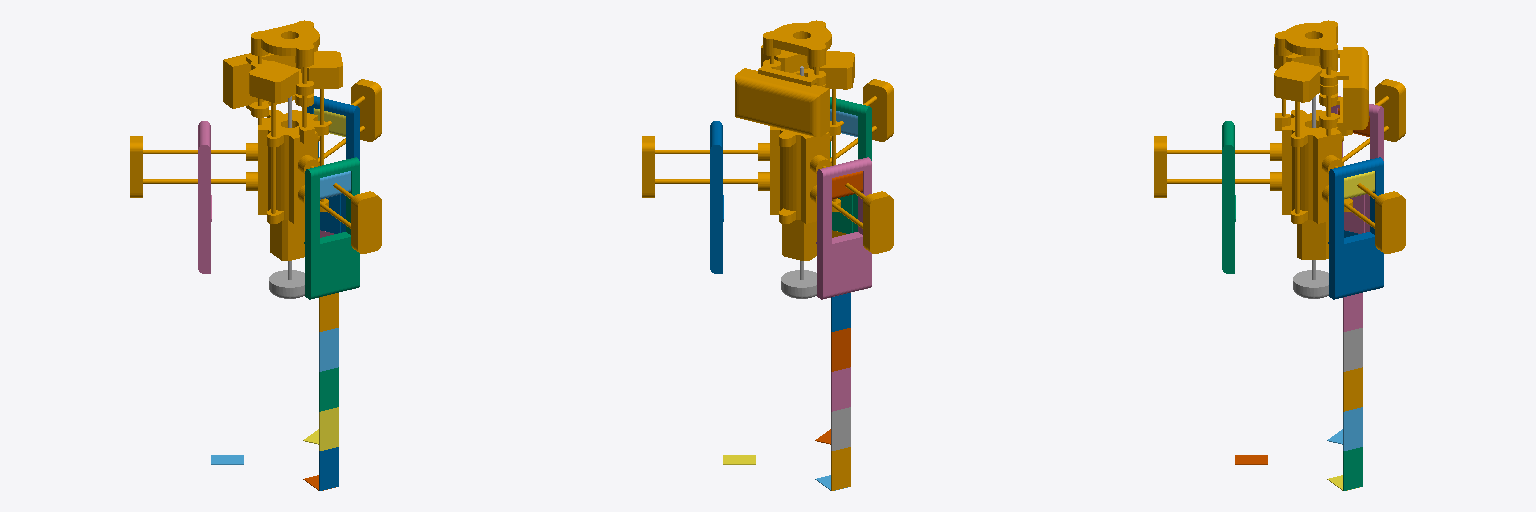
--- What the picture shows (computed from the rendered views, not written in the file) ---
Views: 3 orthographic renders of the robot side by side, from view 1: azimuth 30°, elevation 25°; view 2: azimuth 150°, elevation 25°; view 3: azimuth 270°, elevation 25°.
Model gripper with 27 links and 26 joints (18 revolute, 4 prismatic, 4 fixed), rooted at world, posed all joints at 0 but 3 set to mid-range because 0 is outside their limits (finger_1_prismatic_joint = 0.0915, finger_2_prismatic_joint = 0.0915, finger_3_prismatic_joint = 0.0915).
Links seen in each view (by area): view 1: gripper_base_link, finger_1, finger_3, finger_2, palm, finger_1_segment_link_5, finger_1_segment_link_2, finger_1_segment_link_3, finger_1_segment_link_4, finger_1_segment_link_1, finger_1_intermediate; view 2: gripper_base_link, finger_3, finger_2, finger_1, palm, finger_3_segment_link_5, finger_3_segment_link_2, finger_3_segment_link_3, finger_3_segment_link_4, finger_3_segment_link_1, finger_3_intermediate; view 3: gripper_base_link, finger_2, finger_1, finger_3, palm, finger_2_segment_link_5, finger_2_segment_link_2, finger_2_segment_link_3, finger_2_segment_link_4, finger_2_segment_link_1, finger_2_intermediate.
Link boxes in pixels (x1,y1,x2,y2): gripper_base_link: (130,20,381,260); finger_1: (304,157,359,299); finger_3: (198,121,211,273); finger_2: (307,96,359,233); palm: (269,96,304,298); finger_1_segment_link_5: (319,447,338,490); finger_1_segment_link_2: (319,328,338,371); finger_1_segment_link_3: (319,367,338,411); finger_1_segment_link_4: (319,407,338,450); finger_1_segment_link_1: (319,293,338,331); finger_1_intermediate: (320,171,350,199); gripper_base_link: (642,20,893,260); finger_3: (816,157,871,299); finger_2: (710,121,723,273); finger_1: (830,97,871,233); palm: (781,66,816,298); finger_3_segment_link_5: (831,447,850,490); finger_3_segment_link_2: (831,328,850,371); finger_3_segment_link_3: (831,367,850,411); finger_3_segment_link_4: (831,407,850,450); finger_3_segment_link_1: (831,293,850,331); finger_3_intermediate: (832,171,862,199); gripper_base_link: (1154,20,1405,259); finger_2: (1328,157,1383,299); finger_1: (1222,121,1235,273); finger_3: (1331,96,1383,233); palm: (1293,96,1328,298); finger_2_segment_link_5: (1343,447,1362,490); finger_2_segment_link_2: (1343,328,1362,371); finger_2_segment_link_3: (1343,367,1362,411); finger_2_segment_link_4: (1343,407,1362,450); finger_2_segment_link_1: (1343,293,1362,331); finger_2_intermediate: (1344,171,1374,199).
Size in the robot's own frame: 0.3116 by 0.2699 by 0.5023 metres.
Meshes: 4 distinct files referenced, 8 mesh visuals loaded (4 binary STL).

URDF robot description (gripper):
<?xml version="1.0" ?>
<!-- =================================================================================== -->
<!-- |    This document was autogenerated by xacro from gripper.urdf.xacro             | -->
<!-- |    EDITING THIS FILE BY HAND IS NOT RECOMMENDED                                 | -->
<!-- =================================================================================== -->
<robot name="gripper">
  <!-- PARAMETERS TO BE SET BY HAND -->
  <!-- END OF PARAMETERS TO BE SET BY HAND -->
  <!-- PARAMETERS TO BE SET BY HAND -->
  <!-- END OF PARAMETER TO BE SET BY HAND -->
  <!-- BASE LINK -->
  <link name="gripper_base_link">
    <inertial>
      <mass value="1.5"/>
      <origin rpy="3.141592653589793 0 0" xyz="0 0 0.025"/>
      <inertia ixx="9.95e-3" ixy="2.73e-6" ixz="-14.32e-6" iyy="10.08e-3" iyz="121.38e-6" izz="5.13e-3"/>
    </inertial>
    <visual>
      <geometry>
        <mesh filename="package://gripper_description/meshes/main body visual.STL"/>
      </geometry>
    </visual>
    <collision>
      <geometry>
        <!--          <mesh filename="package://gripper_description/meshes/main body collision.STL"/>-->
        <cylinder length="0.1" radius="0.03"/>
      </geometry>
    </collision>
  </link>
  <!-- Intermediate link for prismatic joint -->
  <link name="finger_1_intermediate">
    <inertial>
      <mass value="0.1"/>
      <origin rpy="0 0 0" xyz="0 0 0"/>
      <inertia ixx="55.59e-6" ixy="-47.23e-6" ixz="1.16e-6" iyy="146.36e-6" iyz="1.00e-6" izz="154.18e-6"/>
    </inertial>
    <visual>
      <geometry>
        <mesh filename="package://gripper_description/meshes/nut visual.STL"/>
      </geometry>
    </visual>
    <collision>
      <geometry>
        <mesh filename="package://gripper_description/meshes/nut collision.STL"/>
      </geometry>
    </collision>
  </link>
  <!-- Main finger link -->
  <link name="finger_1">
    <inertial>
      <mass value="0.1"/>
      <origin rpy="0 0 0" xyz="0 0 0"/>
      <inertia ixx="55.59e-6" ixy="-47.23e-6" ixz="1.16e-6" iyy="146.36e-6" iyz="1.00e-6" izz="154.18e-6"/>
    </inertial>
    <visual>
      <geometry>
        <mesh filename="package://gripper_description/meshes/platform only visual.STL"/>
      </geometry>
    </visual>
    <collision>
      <geometry>
        <mesh filename="package://gripper_description/meshes/platform only collision.STL"/>
      </geometry>
    </collision>
  </link>
  <joint name="finger_1_prismatic_joint" type="prismatic">
    <axis rpy="0 0 0" xyz="0 1 0"/>
    <parent link="gripper_base_link"/>
    <child link="finger_1_intermediate"/>
    <origin rpy="4.71238898038469                    4.71238898038469                    1.5707963267948966" xyz="0.0                    0.0                    0"/>
    <limit effort="40.0" lower="0.049" upper="0.134" velocity="0.015"/>
    <dynamics damping="1.0"/>
  </joint>
  <joint name="finger_1_revolute_joint" type="revolute">
    <axis rpy="0 0 0" xyz="0 0 1"/>
    <parent link="finger_1_intermediate"/>
    <child link="finger_1"/>
    <origin rpy="0 0 0.0" xyz="0 0 0"/>
    <limit effort="40.0" lower="-0.7" upper="0.7" velocity="0.1"/>
    <dynamics damping="1.0"/>
  </joint>
  <!-- Intermediate link for prismatic joint -->
  <link name="finger_2_intermediate">
    <inertial>
      <mass value="0.1"/>
      <origin rpy="0 0 0" xyz="0 0 0"/>
      <inertia ixx="55.59e-6" ixy="-47.23e-6" ixz="1.16e-6" iyy="146.36e-6" iyz="1.00e-6" izz="154.18e-6"/>
    </inertial>
    <visual>
      <geometry>
        <mesh filename="package://gripper_description/meshes/nut visual.STL"/>
      </geometry>
    </visual>
    <collision>
      <geometry>
        <mesh filename="package://gripper_description/meshes/nut collision.STL"/>
      </geometry>
    </collision>
  </link>
  <!-- Main finger link -->
  <link name="finger_2">
    <inertial>
      <mass value="0.1"/>
      <origin rpy="0 0 0" xyz="0 0 0"/>
      <inertia ixx="55.59e-6" ixy="-47.23e-6" ixz="1.16e-6" iyy="146.36e-6" iyz="1.00e-6" izz="154.18e-6"/>
    </inertial>
    <visual>
      <geometry>
        <mesh filename="package://gripper_description/meshes/platform only visual.STL"/>
      </geometry>
    </visual>
    <collision>
      <geometry>
        <mesh filename="package://gripper_description/meshes/platform only collision.STL"/>
      </geometry>
    </collision>
  </link>
  <joint name="finger_2_prismatic_joint" type="prismatic">
    <axis rpy="0 0 0" xyz="0 1 0"/>
    <parent link="gripper_base_link"/>
    <child link="finger_2_intermediate"/>
    <origin rpy="4.71238898038469                    4.71238898038469                    -0.5235987755982987" xyz="0.0                    -0.0                    0"/>
    <limit effort="40.0" lower="0.049" upper="0.134" velocity="0.015"/>
    <dynamics damping="1.0"/>
  </joint>
  <joint name="finger_2_revolute_joint" type="revolute">
    <axis rpy="0 0 0" xyz="0 0 1"/>
    <parent link="finger_2_intermediate"/>
    <child link="finger_2"/>
    <origin rpy="0 0 0.0" xyz="0 0 0"/>
    <limit effort="40.0" lower="-0.7" upper="0.7" velocity="0.1"/>
    <dynamics damping="1.0"/>
  </joint>
  <!-- Intermediate link for prismatic joint -->
  <link name="finger_3_intermediate">
    <inertial>
      <mass value="0.1"/>
      <origin rpy="0 0 0" xyz="0 0 0"/>
      <inertia ixx="55.59e-6" ixy="-47.23e-6" ixz="1.16e-6" iyy="146.36e-6" iyz="1.00e-6" izz="154.18e-6"/>
    </inertial>
    <visual>
      <geometry>
        <mesh filename="package://gripper_description/meshes/nut visual.STL"/>
      </geometry>
    </visual>
    <collision>
      <geometry>
        <mesh filename="package://gripper_description/meshes/nut collision.STL"/>
      </geometry>
    </collision>
  </link>
  <!-- Main finger link -->
  <link name="finger_3">
    <inertial>
      <mass value="0.1"/>
      <origin rpy="0 0 0" xyz="0 0 0"/>
      <inertia ixx="55.59e-6" ixy="-47.23e-6" ixz="1.16e-6" iyy="146.36e-6" iyz="1.00e-6" izz="154.18e-6"/>
    </inertial>
    <visual>
      <geometry>
        <mesh filename="package://gripper_description/meshes/platform only visual.STL"/>
      </geometry>
    </visual>
    <collision>
      <geometry>
        <mesh filename="package://gripper_description/meshes/platform only collision.STL"/>
      </geometry>
    </collision>
  </link>
  <joint name="finger_3_prismatic_joint" type="prismatic">
    <axis rpy="0 0 0" xyz="0 1 0"/>
    <parent link="gripper_base_link"/>
    <child link="finger_3_intermediate"/>
    <origin rpy="4.71238898038469                    4.71238898038469                    -2.617993877991494" xyz="-0.0                    -0.0                    0"/>
    <limit effort="40.0" lower="0.049" upper="0.134" velocity="0.015"/>
    <dynamics damping="1.0"/>
  </joint>
  <joint name="finger_3_revolute_joint" type="revolute">
    <axis rpy="0 0 0" xyz="0 0 1"/>
    <parent link="finger_3_intermediate"/>
    <child link="finger_3"/>
    <origin rpy="0 0 0.0" xyz="0 0 0"/>
    <limit effort="40.0" lower="-0.7" upper="0.7" velocity="0.1"/>
    <dynamics damping="1.0"/>
  </joint>
  <!-- PALM -->
  <link name="palm">
    <inertial>
      <mass value="0.05"/>
      <origin rpy="0 0 0" xyz="0 0 0"/>
      <inertia ixx="10.0e-6" ixy="0.0" ixz="0.0" iyy="10.0e-6" iyz="0.0" izz="10.0e-6"/>
    </inertial>
    <visual>
      <origin rpy="0 0 0" xyz="0 0 0"/>
      <geometry>
        <mesh filename="package://gripper_description/meshes/palm visual.STL"/>
      </geometry>
    </visual>
    <collision>
      <geometry>
        <mesh filename="package://gripper_description/meshes/palm collision.STL"/>
      </geometry>
    </collision>
  </link>
  <joint name="palm_prismatic_joint" type="prismatic">
    <axis rpy="0 0 0" xyz="1 0 0"/>
    <parent link="gripper_base_link"/>
    <child link="palm"/>
    <origin rpy="0 -1.5707963267948966 0" xyz="0 0 0"/>
    <limit effort="40.0" lower="0.0" upper="0.165" velocity="0.036"/>
    <dynamics damping="1.0"/>
  </joint>
  <!-- PARAMETERS TO BE SET BY HAND -->
  <!-- END OF PARAMETERS TO BE SET BY HAND -->
  <joint name="finger_1_segment_joint_0" type="revolute">
    <origin rpy="1.5707963267948966 0 0" xyz="0.129 -0.007 0"/>
    <parent link="finger_1"/>
    <child link="finger_1_segment_link_1"/>
    <axis rpy="0 0 0" xyz="0 1 0"/>
    <limit effort="1000.0" lower="-1.0" upper="1.0" velocity="1.0"/>
    <dynamics damping="0.01" friction="0.0"/>
  </joint>
  <!-- END TESTING OF BASE JOINT (rather than fixed) -->
  <link name="finger_1_segment_link_1">
    <inertial>
      <mass value="0.013055555555555555"/>
      <inertia ixx="3.137739583333333e-05" ixy="0.00" ixz="0.00" iyy="0.00048070609953703705" iyz="0.00" izz="0.0005119953703703703"/>
    </inertial>
    <visual>
      <origin rpy="0 0 0" xyz="0.0235 0 0"/>
      <geometry>
        <box size="0.047 0.024 0.0009"/>
      </geometry>
    </visual>
    <collision>
      <origin rpy="0 0 0" xyz="0.0235 0 0"/>
      <geometry>
        <box size="0.047 0.024 0.0009"/>
      </geometry>
    </collision>
  </link>
  <gazebo reference="finger_1_segment_link_1">
    <material>Gazebo/Orange</material>
    <mu1>0.1</mu1>
    <mu2>0.1</mu2>
    <maxVel>0.0</maxVel>
    <minDepth>0.001</minDepth>
    <!-- <kp>100</kp>
        <kd>1</kd> -->
  </gazebo>
  <link name="finger_1_segment_link_2">
    <inertial>
      <mass value="0.013055555555555555"/>
      <inertia ixx="3.137739583333333e-05" ixy="0.00" ixz="0.00" iyy="0.00048070609953703705" iyz="0.00" izz="0.0005119953703703703"/>
    </inertial>
    <visual>
      <origin rpy="0 0 0" xyz="0.0235 0 0"/>
      <geometry>
        <box size="0.047 0.024 0.0009"/>
      </geometry>
    </visual>
    <collision>
      <origin rpy="0 0 0" xyz="0.0235 0 0"/>
      <geometry>
        <box size="0.047 0.024 0.0009"/>
      </geometry>
    </collision>
  </link>
  <gazebo reference="finger_1_segment_link_2">
    <material>Gazebo/Orange</material>
    <mu1>0.1</mu1>
    <mu2>0.1</mu2>
    <maxVel>0.0</maxVel>
    <minDepth>0.001</minDepth>
    <!-- <kp>100</kp>
        <kd>1</kd> -->
  </gazebo>
  <!-- bending joint -->
  <joint name="finger_1_segment_joint_1" type="revolute">
    <axis rpy="0 0 0" xyz="0 1 0"/>
    <parent link="finger_1_segment_link_1"/>
    <child link="finger_1_segment_link_2"/>
    <origin rpy="0 0 0" xyz="0.047 0 0"/>
    <limit effort="1000.0" lower="-1.0" upper="1.0" velocity="1.0"/>
    <dynamics damping="0.01" friction="0.0"/>
  </joint>
  <gazebo reference="finger_1_segment_joint_1">
    <provideFeedback>1</provideFeedback>
    <springReference>0.0</springReference>
    <implicitSpringDamper>1</implicitSpringDamper>
    <springStiffness>3.0</springStiffness>
  </gazebo>
  <!-- set transmission for gazebo ROS controllers-->
  <transmission name="finger_1_segment_tran_1">
    <type>transmission_interface/SimpleTransmission</type>
    <joint name="finger_1_segment_joint_1">
      <hardwareInterface>hardware_interface/EffortJointInterface</hardwareInterface>
    </joint>
    <actuator name="finger_1_segment_motor_1">
      <hardwareInterface>hardware_interface/EffortJointInterface</hardwareInterface>
      <mechanicalReduction>1</mechanicalReduction>
    </actuator>
  </transmission>
  <link name="finger_1_segment_link_3">
    <inertial>
      <mass value="0.013055555555555555"/>
      <inertia ixx="3.137739583333333e-05" ixy="0.00" ixz="0.00" iyy="0.00048070609953703705" iyz="0.00" izz="0.0005119953703703703"/>
    </inertial>
    <visual>
      <origin rpy="0 0 0" xyz="0.0235 0 0"/>
      <geometry>
        <box size="0.047 0.024 0.0009"/>
      </geometry>
    </visual>
    <collision>
      <origin rpy="0 0 0" xyz="0.0235 0 0"/>
      <geometry>
        <box size="0.047 0.024 0.0009"/>
      </geometry>
    </collision>
  </link>
  <gazebo reference="finger_1_segment_link_3">
    <material>Gazebo/Orange</material>
    <mu1>0.1</mu1>
    <mu2>0.1</mu2>
    <maxVel>0.0</maxVel>
    <minDepth>0.001</minDepth>
    <!-- <kp>100</kp>
        <kd>1</kd> -->
  </gazebo>
  <!-- bending joint -->
  <joint name="finger_1_segment_joint_2" type="revolute">
    <axis rpy="0 0 0" xyz="0 1 0"/>
    <parent link="finger_1_segment_link_2"/>
    <child link="finger_1_segment_link_3"/>
    <origin rpy="0 0 0" xyz="0.047 0 0"/>
    <limit effort="1000.0" lower="-1.0" upper="1.0" velocity="1.0"/>
    <dynamics damping="0.01" friction="0.0"/>
  </joint>
  <gazebo reference="finger_1_segment_joint_2">
    <provideFeedback>1</provideFeedback>
    <springReference>0.0</springReference>
    <implicitSpringDamper>1</implicitSpringDamper>
    <springStiffness>3.0</springStiffness>
  </gazebo>
  <!-- set transmission for gazebo ROS controllers-->
  <transmission name="finger_1_segment_tran_2">
    <type>transmission_interface/SimpleTransmission</type>
    <joint name="finger_1_segment_joint_2">
      <hardwareInterface>hardware_interface/EffortJointInterface</hardwareInterface>
    </joint>
    <actuator name="finger_1_segment_motor_2">
      <hardwareInterface>hardware_interface/EffortJointInterface</hardwareInterface>
      <mechanicalReduction>1</mechanicalReduction>
    </actuator>
  </transmission>
  <link name="finger_1_segment_link_4">
    <inertial>
      <mass value="0.013055555555555555"/>
      <inertia ixx="3.137739583333333e-05" ixy="0.00" ixz="0.00" iyy="0.00048070609953703705" iyz="0.00" izz="0.0005119953703703703"/>
    </inertial>
    <visual>
      <origin rpy="0 0 0" xyz="0.0235 0 0"/>
      <geometry>
        <box size="0.047 0.024 0.0009"/>
      </geometry>
    </visual>
    <collision>
      <origin rpy="0 0 0" xyz="0.0235 0 0"/>
      <geometry>
        <box size="0.047 0.024 0.0009"/>
      </geometry>
    </collision>
  </link>
  <gazebo reference="finger_1_segment_link_4">
    <material>Gazebo/Orange</material>
    <mu1>0.1</mu1>
    <mu2>0.1</mu2>
    <maxVel>0.0</maxVel>
    <minDepth>0.001</minDepth>
    <!-- <kp>100</kp>
        <kd>1</kd> -->
  </gazebo>
  <!-- bending joint -->
  <joint name="finger_1_segment_joint_3" type="revolute">
    <axis rpy="0 0 0" xyz="0 1 0"/>
    <parent link="finger_1_segment_link_3"/>
    <child link="finger_1_segment_link_4"/>
    <origin rpy="0 0 0" xyz="0.047 0 0"/>
    <limit effort="1000.0" lower="-1.0" upper="1.0" velocity="1.0"/>
    <dynamics damping="0.01" friction="0.0"/>
  </joint>
  <gazebo reference="finger_1_segment_joint_3">
    <provideFeedback>1</provideFeedback>
    <springReference>0.0</springReference>
    <implicitSpringDamper>1</implicitSpringDamper>
    <springStiffness>3.0</springStiffness>
  </gazebo>
  <!-- set transmission for gazebo ROS controllers-->
  <transmission name="finger_1_segment_tran_3">
    <type>transmission_interface/SimpleTransmission</type>
    <joint name="finger_1_segment_joint_3">
      <hardwareInterface>hardware_interface/EffortJointInterface</hardwareInterface>
    </joint>
    <actuator name="finger_1_segment_motor_3">
      <hardwareInterface>hardware_interface/EffortJointInterface</hardwareInterface>
      <mechanicalReduction>1</mechanicalReduction>
    </actuator>
  </transmission>
  <link name="finger_1_segment_link_5">
    <inertial>
      <mass value="0.013055555555555555"/>
      <inertia ixx="3.137739583333333e-05" ixy="0.00" ixz="0.00" iyy="0.00048070609953703705" iyz="0.00" izz="0.0005119953703703703"/>
    </inertial>
    <visual>
      <origin rpy="0 0 0" xyz="0.0235 0 0"/>
      <geometry>
        <box size="0.047 0.024 0.0009"/>
      </geometry>
    </visual>
    <collision>
      <origin rpy="0 0 0" xyz="0.0235 0 0"/>
      <geometry>
        <box size="0.047 0.024 0.0009"/>
      </geometry>
    </collision>
  </link>
  <gazebo reference="finger_1_segment_link_5">
    <material>Gazebo/Orange</material>
    <mu1>0.1</mu1>
    <mu2>0.1</mu2>
    <maxVel>0.0</maxVel>
    <minDepth>0.001</minDepth>
    <!-- <kp>100</kp>
        <kd>1</kd> -->
  </gazebo>
  <!-- bending joint -->
  <joint name="finger_1_segment_joint_4" type="revolute">
    <axis rpy="0 0 0" xyz="0 1 0"/>
    <parent link="finger_1_segment_link_4"/>
    <child link="finger_1_segment_link_5"/>
    <origin rpy="0 0 0" xyz="0.047 0 0"/>
    <limit effort="1000.0" lower="-1.0" upper="1.0" velocity="1.0"/>
    <dynamics damping="0.01" friction="0.0"/>
  </joint>
  <gazebo reference="finger_1_segment_joint_4">
    <provideFeedback>1</provideFeedback>
    <springReference>0.0</springReference>
    <implicitSpringDamper>1</implicitSpringDamper>
    <springStiffness>3.0</springStiffness>
  </gazebo>
  <!-- set transmission for gazebo ROS controllers-->
  <transmission name="finger_1_segment_tran_4">
    <type>transmission_interface/SimpleTransmission</type>
    <joint name="finger_1_segment_joint_4">
      <hardwareInterface>hardware_interface/EffortJointInterface</hardwareInterface>
    </joint>
    <actuator name="finger_1_segment_motor_4">
      <hardwareInterface>hardware_interface/EffortJointInterface</hardwareInterface>
      <mechanicalReduction>1</mechanicalReduction>
    </actuator>
  </transmission>
  <!-- Add the finger hook link -->
  <link name="finger_1_finger_hook_link">
    <inertial>
      <mass value="0.009722222222222222"/>
      <inertia ixx="2.336614583333333e-05" ixy="0.00" ixz="0.00" iyy="0.00019852818287037038" iyz="0.00" izz="0.00022182870370370374"/>
    </inertial>
    <visual>
      <origin rpy="0 0 0" xyz="0.0175 0 0"/>
      <geometry>
        <box size="0.035 0.024 0.0009"/>
      </geometry>
    </visual>
    <collision>
      <origin rpy="0 0 0" xyz="0.0175 0 0"/>
      <geometry>
        <box size="0.035 0.024 0.0009"/>
      </geometry>
    </collision>
  </link>
  <gazebo reference="finger_1_finger_hook_link">
    <material>Gazebo/Orange</material>
    <mu1>0.1</mu1>
    <mu2>0.1</mu2>
    <maxVel>0.0</maxVel>
    <minDepth>0.001</minDepth>
    <!-- <kp>100</kp>
        <kd>1</kd> -->
  </gazebo>
  <joint name="finger_1_finger_hook_joint" type="fixed">
    <parent link="finger_1_segment_link_5"/>
    <child link="finger_1_finger_hook_link"/>
    <origin rpy="0 -1.5707963267948502 0" xyz="0.047 0 0"/>
  </joint>
  <!-- PARAMETERS TO BE SET BY HAND -->
  <!-- END OF PARAMETERS TO BE SET BY HAND -->
  <joint name="finger_2_segment_joint_0" type="revolute">
    <origin rpy="1.5707963267948966 0 0" xyz="0.129 -0.007 0"/>
    <parent link="finger_2"/>
    <child link="finger_2_segment_link_1"/>
    <axis rpy="0 0 0" xyz="0 1 0"/>
    <limit effort="1000.0" lower="-1.0" upper="1.0" velocity="1.0"/>
    <dynamics damping="0.01" friction="0.0"/>
  </joint>
  <!-- END TESTING OF BASE JOINT (rather than fixed) -->
  <link name="finger_2_segment_link_1">
    <inertial>
      <mass value="0.013055555555555555"/>
      <inertia ixx="3.137739583333333e-05" ixy="0.00" ixz="0.00" iyy="0.00048070609953703705" iyz="0.00" izz="0.0005119953703703703"/>
    </inertial>
    <visual>
      <origin rpy="0 0 0" xyz="0.0235 0 0"/>
      <geometry>
        <box size="0.047 0.024 0.0009"/>
      </geometry>
    </visual>
    <collision>
      <origin rpy="0 0 0" xyz="0.0235 0 0"/>
      <geometry>
        <box size="0.047 0.024 0.0009"/>
      </geometry>
    </collision>
  </link>
  <gazebo reference="finger_2_segment_link_1">
    <material>Gazebo/Orange</material>
    <mu1>0.1</mu1>
    <mu2>0.1</mu2>
    <maxVel>0.0</maxVel>
    <minDepth>0.001</minDepth>
    <!-- <kp>100</kp>
        <kd>1</kd> -->
  </gazebo>
  <link name="finger_2_segment_link_2">
    <inertial>
      <mass value="0.013055555555555555"/>
      <inertia ixx="3.137739583333333e-05" ixy="0.00" ixz="0.00" iyy="0.00048070609953703705" iyz="0.00" izz="0.0005119953703703703"/>
    </inertial>
    <visual>
      <origin rpy="0 0 0" xyz="0.0235 0 0"/>
      <geometry>
        <box size="0.047 0.024 0.0009"/>
      </geometry>
    </visual>
    <collision>
      <origin rpy="0 0 0" xyz="0.0235 0 0"/>
      <geometry>
        <box size="0.047 0.024 0.0009"/>
      </geometry>
    </collision>
  </link>
  <gazebo reference="finger_2_segment_link_2">
    <material>Gazebo/Orange</material>
    <mu1>0.1</mu1>
    <mu2>0.1</mu2>
    <maxVel>0.0</maxVel>
    <minDepth>0.001</minDepth>
    <!-- <kp>100</kp>
        <kd>1</kd> -->
  </gazebo>
  <!-- bending joint -->
  <joint name="finger_2_segment_joint_1" type="revolute">
    <axis rpy="0 0 0" xyz="0 1 0"/>
    <parent link="finger_2_segment_link_1"/>
    <child link="finger_2_segment_link_2"/>
    <origin rpy="0 0 0" xyz="0.047 0 0"/>
    <limit effort="1000.0" lower="-1.0" upper="1.0" velocity="1.0"/>
    <dynamics damping="0.01" friction="0.0"/>
  </joint>
  <gazebo reference="finger_2_segment_joint_1">
    <provideFeedback>1</provideFeedback>
    <springReference>0.0</springReference>
    <implicitSpringDamper>1</implicitSpringDamper>
    <springStiffness>3.0</springStiffness>
  </gazebo>
  <!-- set transmission for gazebo ROS controllers-->
  <transmission name="finger_2_segment_tran_1">
    <type>transmission_interface/SimpleTransmission</type>
    <joint name="finger_2_segment_joint_1">
      <hardwareInterface>hardware_interface/EffortJointInterface</hardwareInterface>
    </joint>
    <actuator name="finger_2_segment_motor_1">
      <hardwareInterface>hardware_interface/EffortJointInterface</hardwareInterface>
      <mechanicalReduction>1</mechanicalReduction>
    </actuator>
  </transmission>
  <link name="finger_2_segment_link_3">
    <inertial>
      <mass value="0.013055555555555555"/>
      <inertia ixx="3.137739583333333e-05" ixy="0.00" ixz="0.00" iyy="0.00048070609953703705" iyz="0.00" izz="0.0005119953703703703"/>
    </inertial>
    <visual>
      <origin rpy="0 0 0" xyz="0.0235 0 0"/>
      <geometry>
        <box size="0.047 0.024 0.0009"/>
      </geometry>
    </visual>
    <collision>
      <origin rpy="0 0 0" xyz="0.0235 0 0"/>
      <geometry>
        <box size="0.047 0.024 0.0009"/>
      </geometry>
    </collision>
  </link>
  <gazebo reference="finger_2_segment_link_3">
    <material>Gazebo/Orange</material>
    <mu1>0.1</mu1>
    <mu2>0.1</mu2>
    <maxVel>0.0</maxVel>
    <minDepth>0.001</minDepth>
    <!-- <kp>100</kp>
        <kd>1</kd> -->
  </gazebo>
  <!-- bending joint -->
  <joint name="finger_2_segment_joint_2" type="revolute">
    <axis rpy="0 0 0" xyz="0 1 0"/>
    <parent link="finger_2_segment_link_2"/>
    <child link="finger_2_segment_link_3"/>
    <origin rpy="0 0 0" xyz="0.047 0 0"/>
    <limit effort="1000.0" lower="-1.0" upper="1.0" velocity="1.0"/>
    <dynamics damping="0.01" friction="0.0"/>
  </joint>
  <gazebo reference="finger_2_segment_joint_2">
    <provideFeedback>1</provideFeedback>
    <springReference>0.0</springReference>
    <implicitSpringDamper>1</implicitSpringDamper>
    <springStiffness>3.0</springStiffness>
  </gazebo>
  <!-- set transmission for gazebo ROS controllers-->
  <transmission name="finger_2_segment_tran_2">
    <type>transmission_interface/SimpleTransmission</type>
    <joint name="finger_2_segment_joint_2">
      <hardwareInterface>hardware_interface/EffortJointInterface</hardwareInterface>
    </joint>
    <actuator name="finger_2_segment_motor_2">
      <hardwareInterface>hardware_interface/EffortJointInterface</hardwareInterface>
      <mechanicalReduction>1</mechanicalReduction>
    </actuator>
  </transmission>
  <link name="finger_2_segment_link_4">
    <inertial>
      <mass value="0.013055555555555555"/>
      <inertia ixx="3.137739583333333e-05" ixy="0.00" ixz="0.00" iyy="0.00048070609953703705" iyz="0.00" izz="0.0005119953703703703"/>
    </inertial>
    <visual>
      <origin rpy="0 0 0" xyz="0.0235 0 0"/>
      <geometry>
        <box size="0.047 0.024 0.0009"/>
      </geometry>
    </visual>
    <collision>
      <origin rpy="0 0 0" xyz="0.0235 0 0"/>
      <geometry>
        <box size="0.047 0.024 0.0009"/>
      </geometry>
    </collision>
  </link>
  <gazebo reference="finger_2_segment_link_4">
    <material>Gazebo/Orange</material>
    <mu1>0.1</mu1>
    <mu2>0.1</mu2>
    <maxVel>0.0</maxVel>
    <minDepth>0.001</minDepth>
    <!-- <kp>100</kp>
        <kd>1</kd> -->
  </gazebo>
  <!-- bending joint -->
  <joint name="finger_2_segment_joint_3" type="revolute">
    <axis rpy="0 0 0" xyz="0 1 0"/>
    <parent link="finger_2_segment_link_3"/>
    <child link="finger_2_segment_link_4"/>
    <origin rpy="0 0 0" xyz="0.047 0 0"/>
    <limit effort="1000.0" lower="-1.0" upper="1.0" velocity="1.0"/>
    <dynamics damping="0.01" friction="0.0"/>
  </joint>
  <gazebo reference="finger_2_segment_joint_3">
    <provideFeedback>1</provideFeedback>
    <springReference>0.0</springReference>
    <implicitSpringDamper>1</implicitSpringDamper>
    <springStiffness>3.0</springStiffness>
  </gazebo>
  <!-- set transmission for gazebo ROS controllers-->
  <transmission name="finger_2_segment_tran_3">
    <type>transmission_interface/SimpleTransmission</type>
    <joint name="finger_2_segment_joint_3">
      <hardwareInterface>hardware_interface/EffortJointInterface</hardwareInterface>
    </joint>
    <actuator name="finger_2_segment_motor_3">
      <hardwareInterface>hardware_interface/EffortJointInterface</hardwareInterface>
      <mechanicalReduction>1</mechanicalReduction>
    </actuator>
  </transmission>
  <link name="finger_2_segment_link_5">
    <inertial>
      <mass value="0.013055555555555555"/>
      <inertia ixx="3.137739583333333e-05" ixy="0.00" ixz="0.00" iyy="0.00048070609953703705" iyz="0.00" izz="0.0005119953703703703"/>
    </inertial>
    <visual>
      <origin rpy="0 0 0" xyz="0.0235 0 0"/>
      <geometry>
        <box size="0.047 0.024 0.0009"/>
      </geometry>
    </visual>
    <collision>
      <origin rpy="0 0 0" xyz="0.0235 0 0"/>
      <geometry>
        <box size="0.047 0.024 0.0009"/>
      </geometry>
    </collision>
  </link>
  <gazebo reference="finger_2_segment_link_5">
    <material>Gazebo/Orange</material>
    <mu1>0.1</mu1>
    <mu2>0.1</mu2>
    <maxVel>0.0</maxVel>
    <minDepth>0.001</minDepth>
    <!-- <kp>100</kp>
        <kd>1</kd> -->
  </gazebo>
  <!-- bending joint -->
  <joint name="finger_2_segment_joint_4" type="revolute">
    <axis rpy="0 0 0" xyz="0 1 0"/>
    <parent link="finger_2_segment_link_4"/>
    <child link="finger_2_segment_link_5"/>
    <origin rpy="0 0 0" xyz="0.047 0 0"/>
    <limit effort="1000.0" lower="-1.0" upper="1.0" velocity="1.0"/>
    <dynamics damping="0.01" friction="0.0"/>
  </joint>
  <gazebo reference="finger_2_segment_joint_4">
    <provideFeedback>1</provideFeedback>
    <springReference>0.0</springReference>
    <implicitSpringDamper>1</implicitSpringDamper>
    <springStiffness>3.0</springStiffness>
  </gazebo>
  <!-- set transmission for gazebo ROS controllers-->
  <transmission name="finger_2_segment_tran_4">
    <type>transmission_interface/SimpleTransmission</type>
    <joint name="finger_2_segment_joint_4">
      <hardwareInterface>hardware_interface/EffortJointInterface</hardwareInterface>
    </joint>
    <actuator name="finger_2_segment_motor_4">
      <hardwareInterface>hardware_interface/EffortJointInterface</hardwareInterface>
      <mechanicalReduction>1</mechanicalReduction>
    </actuator>
  </transmission>
  <!-- Add the finger hook link -->
  <link name="finger_2_finger_hook_link">
    <inertial>
      <mass value="0.009722222222222222"/>
      <inertia ixx="2.336614583333333e-05" ixy="0.00" ixz="0.00" iyy="0.00019852818287037038" iyz="0.00" izz="0.00022182870370370374"/>
    </inertial>
    <visual>
      <origin rpy="0 0 0" xyz="0.0175 0 0"/>
      <geometry>
        <box size="0.035 0.024 0.0009"/>
      </geometry>
    </visual>
    <collision>
      <origin rpy="0 0 0" xyz="0.0175 0 0"/>
      <geometry>
        <box size="0.035 0.024 0.0009"/>
      </geometry>
    </collision>
  </link>
  <gazebo reference="finger_2_finger_hook_link">
    <material>Gazebo/Orange</material>
    <mu1>0.1</mu1>
    <mu2>0.1</mu2>
    <maxVel>0.0</maxVel>
    <minDepth>0.001</minDepth>
    <!-- <kp>100</kp>
        <kd>1</kd> -->
  </gazebo>
  <joint name="finger_2_finger_hook_joint" type="fixed">
    <parent link="finger_2_segment_link_5"/>
    <child link="finger_2_finger_hook_link"/>
    <origin rpy="0 -1.5707963267948502 0" xyz="0.047 0 0"/>
  </joint>
  <!-- PARAMETERS TO BE SET BY HAND -->
  <!-- END OF PARAMETERS TO BE SET BY HAND -->
  <joint name="finger_3_segment_joint_0" type="revolute">
    <origin rpy="1.5707963267948966 0 0" xyz="0.129 -0.007 0"/>
    <parent link="finger_3"/>
    <child link="finger_3_segment_link_1"/>
    <axis rpy="0 0 0" xyz="0 1 0"/>
    <limit effort="1000.0" lower="-1.0" upper="1.0" velocity="1.0"/>
    <dynamics damping="0.01" friction="0.0"/>
  </joint>
  <!-- END TESTING OF BASE JOINT (rather than fixed) -->
  <link name="finger_3_segment_link_1">
    <inertial>
      <mass value="0.013055555555555555"/>
      <inertia ixx="3.137739583333333e-05" ixy="0.00" ixz="0.00" iyy="0.00048070609953703705" iyz="0.00" izz="0.0005119953703703703"/>
    </inertial>
    <visual>
      <origin rpy="0 0 0" xyz="0.0235 0 0"/>
      <geometry>
        <box size="0.047 0.024 0.0009"/>
      </geometry>
    </visual>
    <collision>
      <origin rpy="0 0 0" xyz="0.0235 0 0"/>
      <geometry>
        <box size="0.047 0.024 0.0009"/>
      </geometry>
    </collision>
  </link>
  <gazebo reference="finger_3_segment_link_1">
    <material>Gazebo/Orange</material>
    <mu1>0.1</mu1>
    <mu2>0.1</mu2>
    <maxVel>0.0</maxVel>
    <minDepth>0.001</minDepth>
    <!-- <kp>100</kp>
        <kd>1</kd> -->
  </gazebo>
  <link name="finger_3_segment_link_2">
    <inertial>
      <mass value="0.013055555555555555"/>
      <inertia ixx="3.137739583333333e-05" ixy="0.00" ixz="0.00" iyy="0.00048070609953703705" iyz="0.00" izz="0.0005119953703703703"/>
    </inertial>
    <visual>
      <origin rpy="0 0 0" xyz="0.0235 0 0"/>
      <geometry>
        <box size="0.047 0.024 0.0009"/>
      </geometry>
    </visual>
    <collision>
      <origin rpy="0 0 0" xyz="0.0235 0 0"/>
      <geometry>
        <box size="0.047 0.024 0.0009"/>
      </geometry>
    </collision>
  </link>
  <gazebo reference="finger_3_segment_link_2">
    <material>Gazebo/Orange</material>
    <mu1>0.1</mu1>
    <mu2>0.1</mu2>
    <maxVel>0.0</maxVel>
    <minDepth>0.001</minDepth>
    <!-- <kp>100</kp>
        <kd>1</kd> -->
  </gazebo>
  <!-- bending joint -->
  <joint name="finger_3_segment_joint_1" type="revolute">
    <axis rpy="0 0 0" xyz="0 1 0"/>
    <parent link="finger_3_segment_link_1"/>
    <child link="finger_3_segment_link_2"/>
    <origin rpy="0 0 0" xyz="0.047 0 0"/>
    <limit effort="1000.0" lower="-1.0" upper="1.0" velocity="1.0"/>
    <dynamics damping="0.01" friction="0.0"/>
  </joint>
  <gazebo reference="finger_3_segment_joint_1">
    <provideFeedback>1</provideFeedback>
    <springReference>0.0</springReference>
    <implicitSpringDamper>1</implicitSpringDamper>
    <springStiffness>3.0</springStiffness>
  </gazebo>
  <!-- set transmission for gazebo ROS controllers-->
  <transmission name="finger_3_segment_tran_1">
    <type>transmission_interface/SimpleTransmission</type>
    <joint name="finger_3_segment_joint_1">
      <hardwareInterface>hardware_interface/EffortJointInterface</hardwareInterface>
    </joint>
    <actuator name="finger_3_segment_motor_1">
      <hardwareInterface>hardware_interface/EffortJointInterface</hardwareInterface>
      <mechanicalReduction>1</mechanicalReduction>
    </actuator>
  </transmission>
  <link name="finger_3_segment_link_3">
    <inertial>
      <mass value="0.013055555555555555"/>
      <inertia ixx="3.137739583333333e-05" ixy="0.00" ixz="0.00" iyy="0.00048070609953703705" iyz="0.00" izz="0.0005119953703703703"/>
    </inertial>
    <visual>
      <origin rpy="0 0 0" xyz="0.0235 0 0"/>
      <geometry>
        <box size="0.047 0.024 0.0009"/>
      </geometry>
    </visual>
    <collision>
      <origin rpy="0 0 0" xyz="0.0235 0 0"/>
      <geometry>
        <box size="0.047 0.024 0.0009"/>
      </geometry>
    </collision>
  </link>
  <gazebo reference="finger_3_segment_link_3">
    <material>Gazebo/Orange</material>
    <mu1>0.1</mu1>
    <mu2>0.1</mu2>
    <maxVel>0.0</maxVel>
    <minDepth>0.001</minDepth>
    <!-- <kp>100</kp>
        <kd>1</kd> -->
  </gazebo>
  <!-- bending joint -->
  <joint name="finger_3_segment_joint_2" type="revolute">
    <axis rpy="0 0 0" xyz="0 1 0"/>
    <parent link="finger_3_segment_link_2"/>
    <child link="finger_3_segment_link_3"/>
    <origin rpy="0 0 0" xyz="0.047 0 0"/>
    <limit effort="1000.0" lower="-1.0" upper="1.0" velocity="1.0"/>
    <dynamics damping="0.01" friction="0.0"/>
  </joint>
  <gazebo reference="finger_3_segment_joint_2">
    <provideFeedback>1</provideFeedback>
    <springReference>0.0</springReference>
    <implicitSpringDamper>1</implicitSpringDamper>
    <springStiffness>3.0</springStiffness>
  </gazebo>
  <!-- set transmission for gazebo ROS controllers-->
  <transmission name="finger_3_segment_tran_2">
    <type>transmission_interface/SimpleTransmission</type>
    <joint name="finger_3_segment_joint_2">
      <hardwareInterface>hardware_interface/EffortJointInterface</hardwareInterface>
    </joint>
    <actuator name="finger_3_segment_motor_2">
      <hardwareInterface>hardware_interface/EffortJointInterface</hardwareInterface>
      <mechanicalReduction>1</mechanicalReduction>
    </actuator>
  </transmission>
  <link name="finger_3_segment_link_4">
    <inertial>
      <mass value="0.013055555555555555"/>
      <inertia ixx="3.137739583333333e-05" ixy="0.00" ixz="0.00" iyy="0.00048070609953703705" iyz="0.00" izz="0.0005119953703703703"/>
    </inertial>
    <visual>
      <origin rpy="0 0 0" xyz="0.0235 0 0"/>
      <geometry>
        <box size="0.047 0.024 0.0009"/>
      </geometry>
    </visual>
    <collision>
      <origin rpy="0 0 0" xyz="0.0235 0 0"/>
      <geometry>
        <box size="0.047 0.024 0.0009"/>
      </geometry>
    </collision>
  </link>
  <gazebo reference="finger_3_segment_link_4">
    <material>Gazebo/Orange</material>
    <mu1>0.1</mu1>
    <mu2>0.1</mu2>
    <maxVel>0.0</maxVel>
    <minDepth>0.001</minDepth>
    <!-- <kp>100</kp>
        <kd>1</kd> -->
  </gazebo>
  <!-- bending joint -->
  <joint name="finger_3_segment_joint_3" type="revolute">
    <axis rpy="0 0 0" xyz="0 1 0"/>
    <parent link="finger_3_segment_link_3"/>
    <child link="finger_3_segment_link_4"/>
    <origin rpy="0 0 0" xyz="0.047 0 0"/>
    <limit effort="1000.0" lower="-1.0" upper="1.0" velocity="1.0"/>
    <dynamics damping="0.01" friction="0.0"/>
  </joint>
  <gazebo reference="finger_3_segment_joint_3">
    <provideFeedback>1</provideFeedback>
    <springReference>0.0</springReference>
    <implicitSpringDamper>1</implicitSpringDamper>
    <springStiffness>3.0</springStiffness>
  </gazebo>
  <!-- set transmission for gazebo ROS controllers-->
  <transmission name="finger_3_segment_tran_3">
    <type>transmission_interface/SimpleTransmission</type>
    <joint name="finger_3_segment_joint_3">
      <hardwareInterface>hardware_interface/EffortJointInterface</hardwareInterface>
    </joint>
    <actuator name="finger_3_segment_motor_3">
      <hardwareInterface>hardware_interface/EffortJointInterface</hardwareInterface>
      <mechanicalReduction>1</mechanicalReduction>
    </actuator>
  </transmission>
  <link name="finger_3_segment_link_5">
    <inertial>
      <mass value="0.013055555555555555"/>
      <inertia ixx="3.137739583333333e-05" ixy="0.00" ixz="0.00" iyy="0.00048070609953703705" iyz="0.00" izz="0.0005119953703703703"/>
    </inertial>
    <visual>
      <origin rpy="0 0 0" xyz="0.0235 0 0"/>
      <geometry>
        <box size="0.047 0.024 0.0009"/>
      </geometry>
    </visual>
    <collision>
      <origin rpy="0 0 0" xyz="0.0235 0 0"/>
      <geometry>
        <box size="0.047 0.024 0.0009"/>
      </geometry>
    </collision>
  </link>
  <gazebo reference="finger_3_segment_link_5">
    <material>Gazebo/Orange</material>
    <mu1>0.1</mu1>
    <mu2>0.1</mu2>
    <maxVel>0.0</maxVel>
    <minDepth>0.001</minDepth>
    <!-- <kp>100</kp>
        <kd>1</kd> -->
  </gazebo>
  <!-- bending joint -->
  <joint name="finger_3_segment_joint_4" type="revolute">
    <axis rpy="0 0 0" xyz="0 1 0"/>
    <parent link="finger_3_segment_link_4"/>
    <child link="finger_3_segment_link_5"/>
    <origin rpy="0 0 0" xyz="0.047 0 0"/>
    <limit effort="1000.0" lower="-1.0" upper="1.0" velocity="1.0"/>
    <dynamics damping="0.01" friction="0.0"/>
  </joint>
  <gazebo reference="finger_3_segment_joint_4">
    <provideFeedback>1</provideFeedback>
    <springReference>0.0</springReference>
    <implicitSpringDamper>1</implicitSpringDamper>
    <springStiffness>3.0</springStiffness>
  </gazebo>
  <!-- set transmission for gazebo ROS controllers-->
  <transmission name="finger_3_segment_tran_4">
    <type>transmission_interface/SimpleTransmission</type>
    <joint name="finger_3_segment_joint_4">
      <hardwareInterface>hardware_interface/EffortJointInterface</hardwareInterface>
    </joint>
    <actuator name="finger_3_segment_motor_4">
      <hardwareInterface>hardware_interface/EffortJointInterface</hardwareInterface>
      <mechanicalReduction>1</mechanicalReduction>
    </actuator>
  </transmission>
  <!-- Add the finger hook link -->
  <link name="finger_3_finger_hook_link">
    <inertial>
      <mass value="0.009722222222222222"/>
      <inertia ixx="2.336614583333333e-05" ixy="0.00" ixz="0.00" iyy="0.00019852818287037038" iyz="0.00" izz="0.00022182870370370374"/>
    </inertial>
    <visual>
      <origin rpy="0 0 0" xyz="0.0175 0 0"/>
      <geometry>
        <box size="0.035 0.024 0.0009"/>
      </geometry>
    </visual>
    <collision>
      <origin rpy="0 0 0" xyz="0.0175 0 0"/>
      <geometry>
        <box size="0.035 0.024 0.0009"/>
      </geometry>
    </collision>
  </link>
  <gazebo reference="finger_3_finger_hook_link">
    <material>Gazebo/Orange</material>
    <mu1>0.1</mu1>
    <mu2>0.1</mu2>
    <maxVel>0.0</maxVel>
    <minDepth>0.001</minDepth>
    <!-- <kp>100</kp>
        <kd>1</kd> -->
  </gazebo>
  <joint name="finger_3_finger_hook_joint" type="fixed">
    <parent link="finger_3_segment_link_5"/>
    <child link="finger_3_finger_hook_link"/>
    <origin rpy="0 -1.5707963267948502 0" xyz="0.047 0 0"/>
  </joint>
  <gazebo>
    <plugin filename="libfinger_controller_plugin.so" name="finger_controller_plugin"/>
  </gazebo>
  <!-- attach gripper to the ground for gazebo -->
  <link name="world"/>
  <joint name="world_to_base" type="fixed">
    <origin rpy="3.141592653589793 0 0" xyz="0 0 1"/>
    <parent link="world"/>
    <child link="gripper_base_link"/>
  </joint>
</robot>
